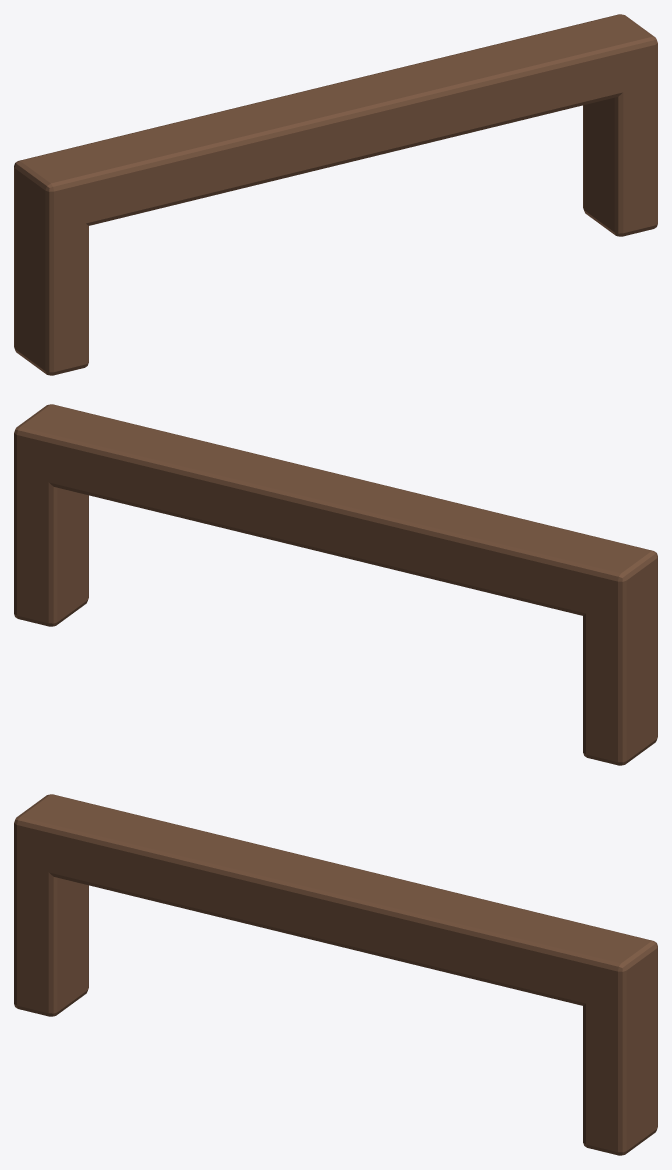
File: wall_knee_2m__structure.glb
3 renders of one model, top to bottom at view 1: azimuth 30°, elevation 25°; view 2: azimuth 150°, elevation 25°; view 3: azimuth 330°, elevation 25°, orthographic.
Visible parts, largest first — view 1: wall_knee_2m__structure__mesh_00; view 2: wall_knee_2m__structure__mesh_00; view 3: wall_knee_2m__structure__mesh_00.
Part boxes in pixels (bbox=[...]): wall_knee_2m__structure__mesh_00: bbox=[14, 14, 657, 375]; wall_knee_2m__structure__mesh_00: bbox=[14, 404, 657, 765]; wall_knee_2m__structure__mesh_00: bbox=[14, 794, 657, 1155].
Size of the model in its own units: 2 by 0.6 by 0.21.
